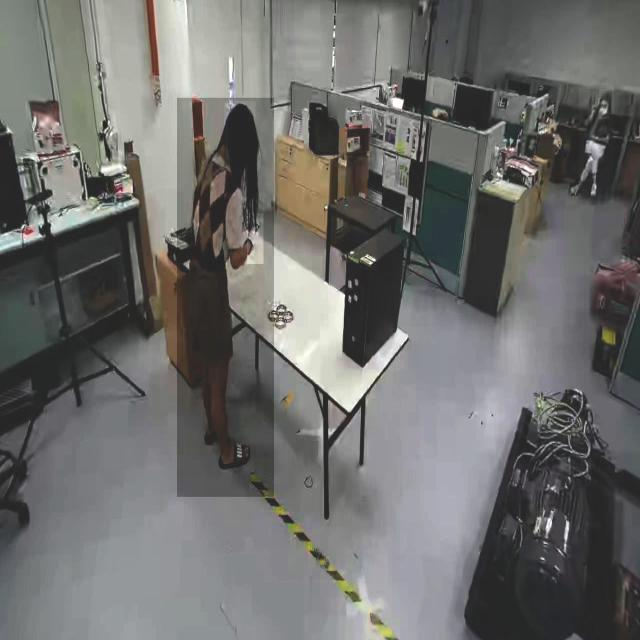face_mask: (598, 98, 609, 119)
hand_glove: (247, 213, 263, 264)
head_nohelmet: (224, 101, 256, 130), (600, 89, 610, 99)
person: (177, 98, 275, 498), (579, 87, 615, 198)
